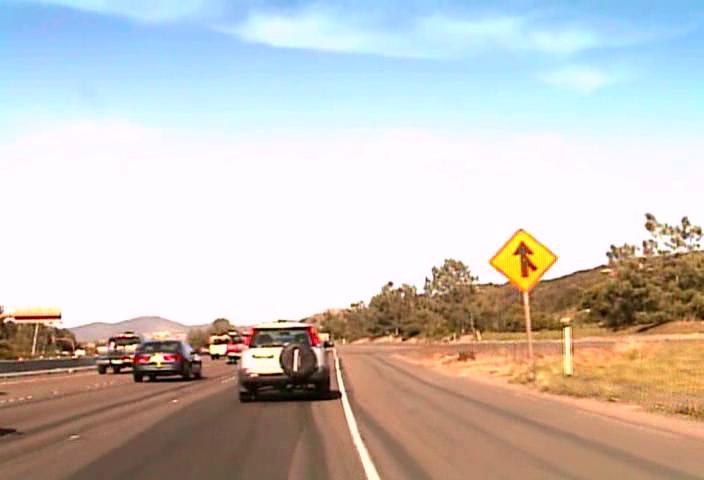merge: (488, 227, 557, 292)
